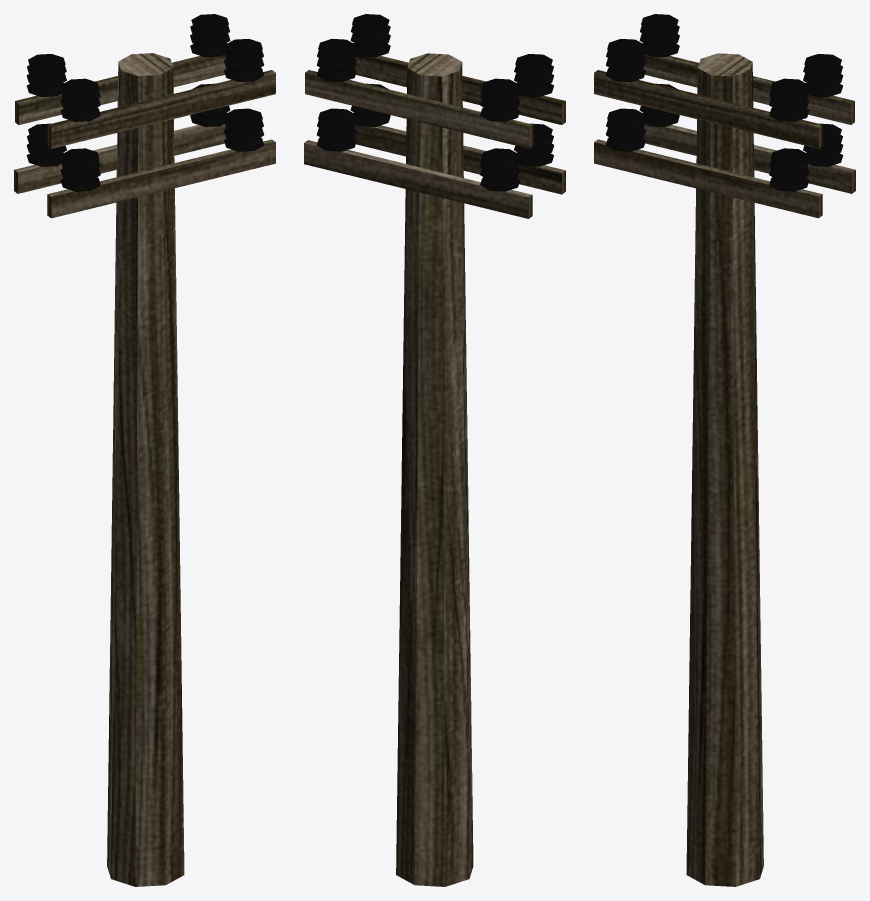
Rendered from ElectricPole.fbx.
The picture shows the model from 3 angles, left to right: view 1: azimuth 30°, elevation 25°; view 2: azimuth 150°, elevation 25°; view 3: azimuth 330°, elevation 25°; orthographic projection.
Visible parts, largest first — view 1: pCube6; view 2: pCube6; view 3: pCube6.
Boxes of the visible parts, <box> form: pCube6: <box>14,14,275,886</box>; pCube6: <box>304,14,565,886</box>; pCube6: <box>594,14,855,886</box>.
Bounding box in the file's own units: 2.36 × 8.25 × 0.998.
